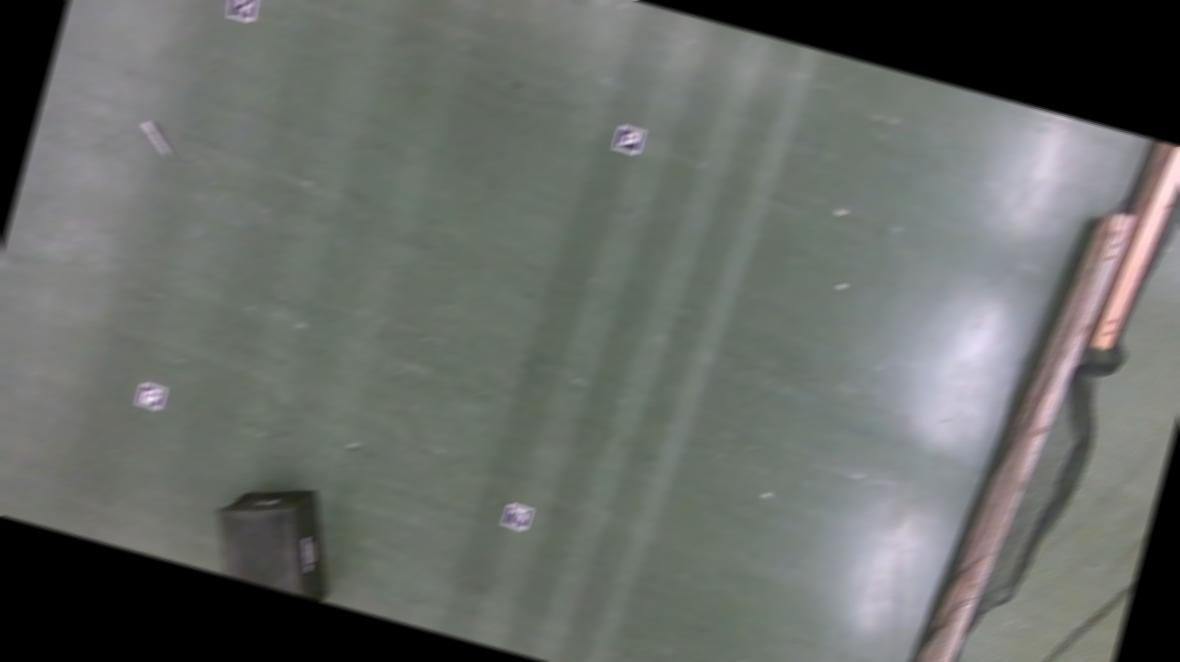probes: (133, 120, 178, 159)
rako: (199, 465, 352, 602)
